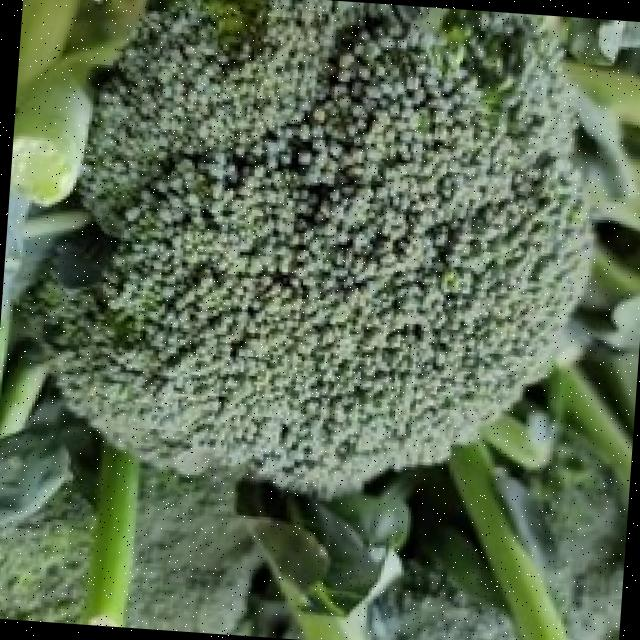Broccoli: (19, 0, 590, 494), (21, 0, 590, 494)
